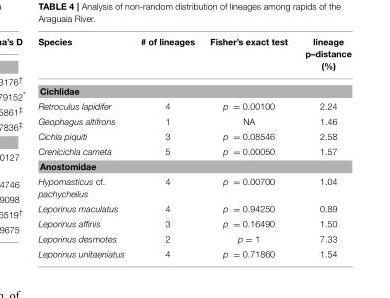table: (37, 37, 350, 258)
table column: (37, 37, 131, 258), (201, 37, 295, 258), (131, 37, 201, 258), (295, 37, 350, 258)
table column header: (37, 37, 350, 78)
table projected row header: (37, 78, 350, 98), (37, 158, 350, 174)
table row: (37, 37, 350, 78), (37, 174, 350, 201), (37, 78, 350, 98), (37, 158, 350, 174), (37, 98, 350, 113), (37, 113, 350, 128), (37, 128, 350, 143), (37, 143, 350, 158), (37, 201, 350, 216), (37, 216, 350, 231), (37, 231, 350, 246), (37, 246, 350, 258)
